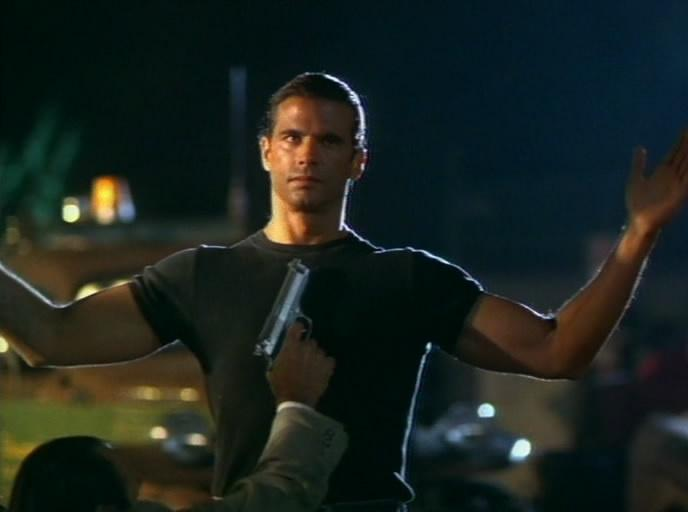gun: (250, 254, 339, 389)
